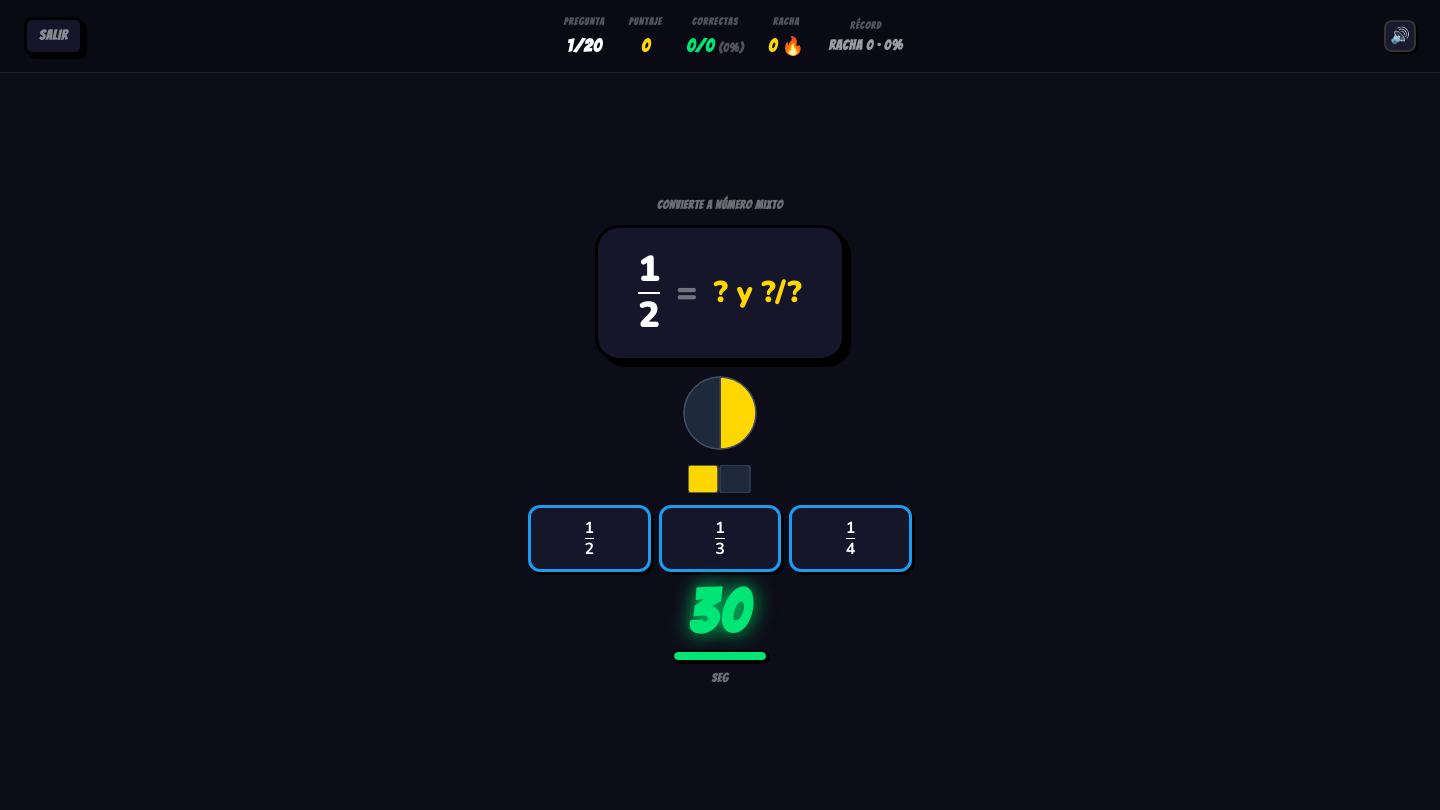
Test: SoloGame › records a wrong answer in the score and streak
Click the button "1 3" at (720, 538), box [659,505,781,572]
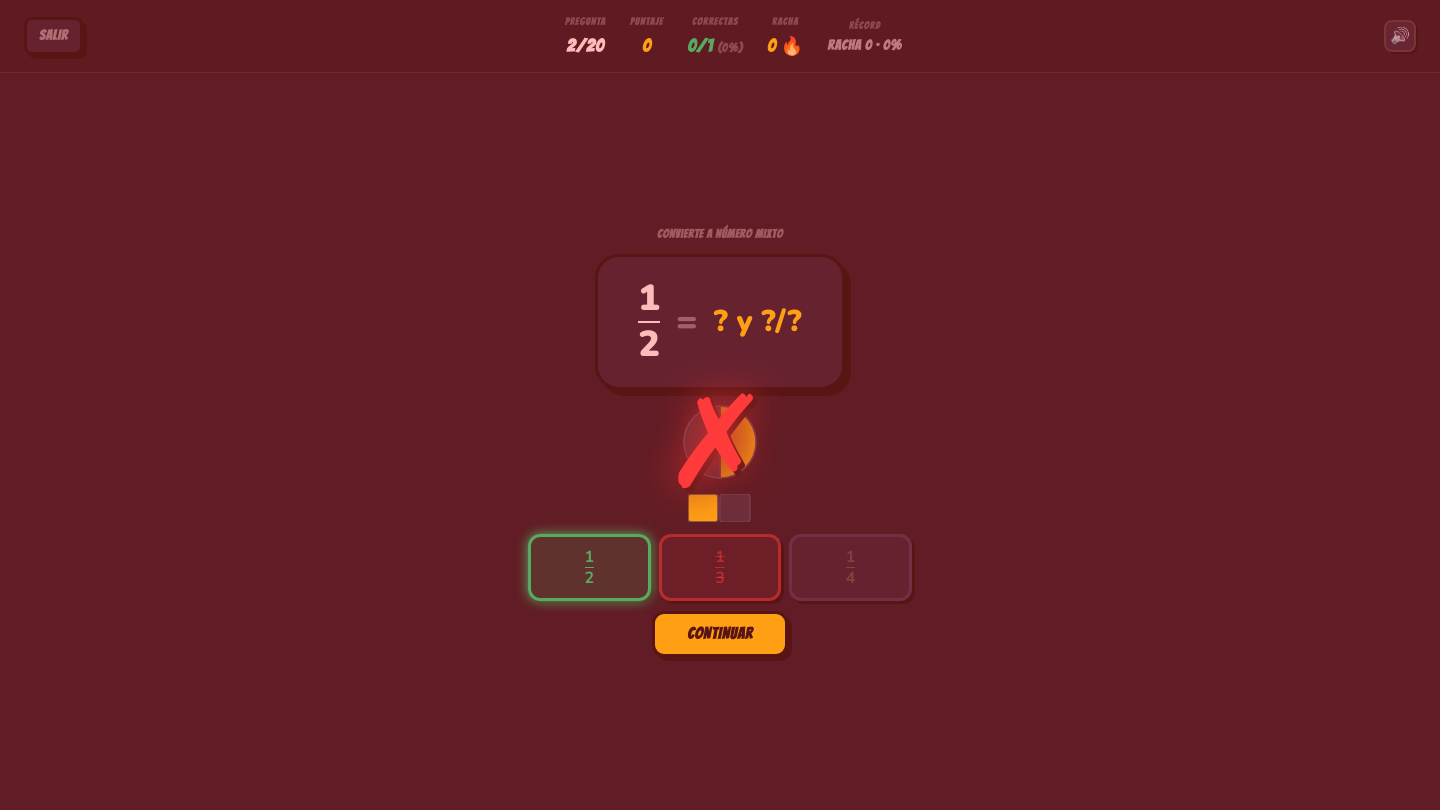
Expected: the text "0 🔥" is shown, [767,32,804,60]
Now the text "0/1" is shown, box [687,32,743,60]
